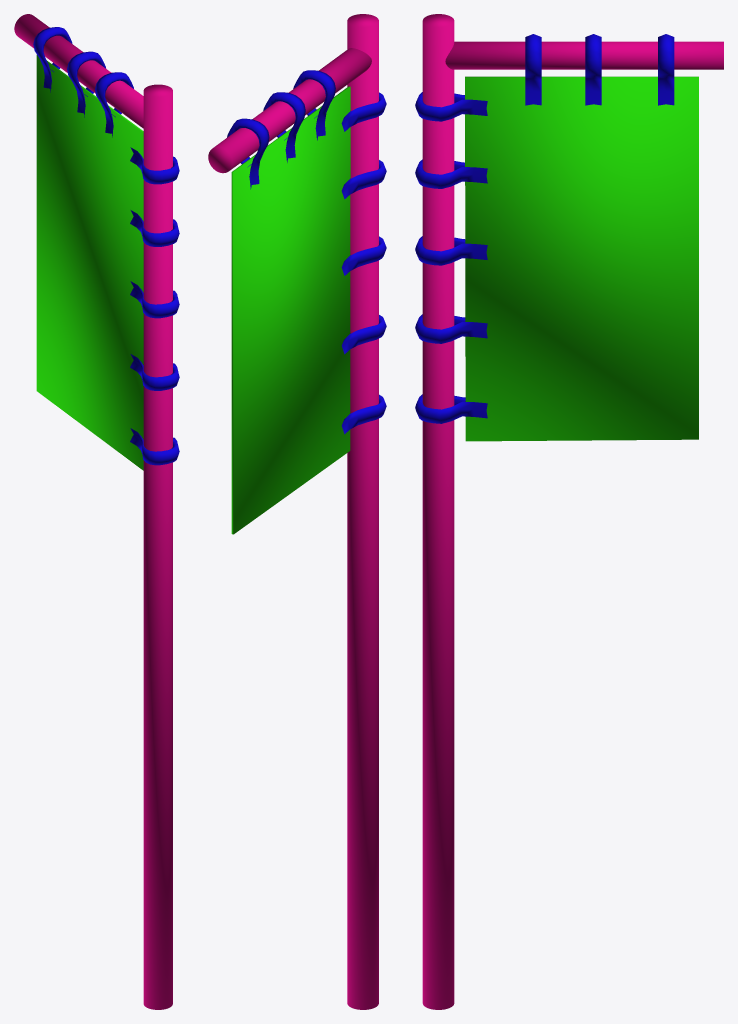
Rendered from Bandera.fbx.
3 renders of one model, left to right at view 1: azimuth 30°, elevation 25°; view 2: azimuth 150°, elevation 25°; view 3: azimuth 270°, elevation 25°, orthographic. The views are drawn at different scales.
Parts seen in each view (by area): view 1: Cilindro; view 2: Cilindro; view 3: Cilindro.
Boxes of the visible parts, box(x1,y1,x2,y2) form: Cilindro: box(14, 14, 179, 1009); Cilindro: box(208, 14, 386, 1009); Cilindro: box(415, 14, 723, 1009).
Bounding box in the file's own units: 20.02 × 503 × 143.
